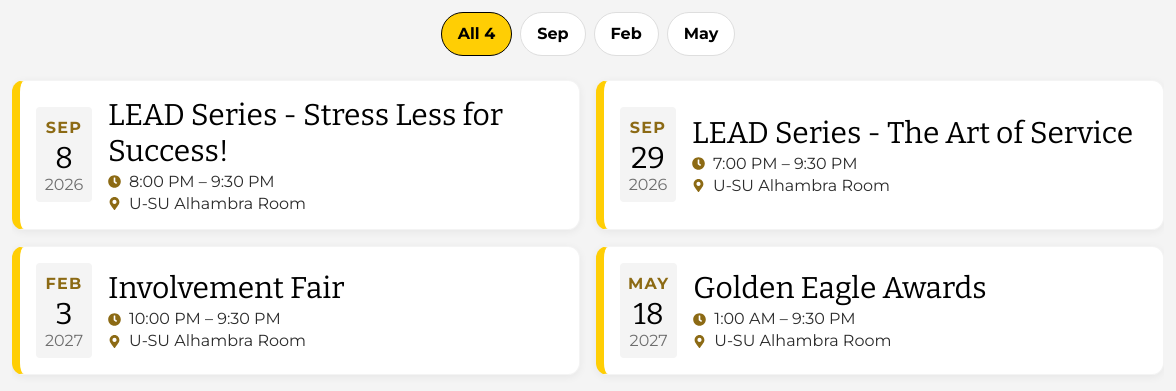
Test case: ImagelessEventsGrid › with a month filter › shows only the chosen month once a pill is pressed
The width and height of the screenshot is (1176, 391).
Step 1. Click the button with aria-label "September 2026" → (553, 34), box [520,12,586,56]
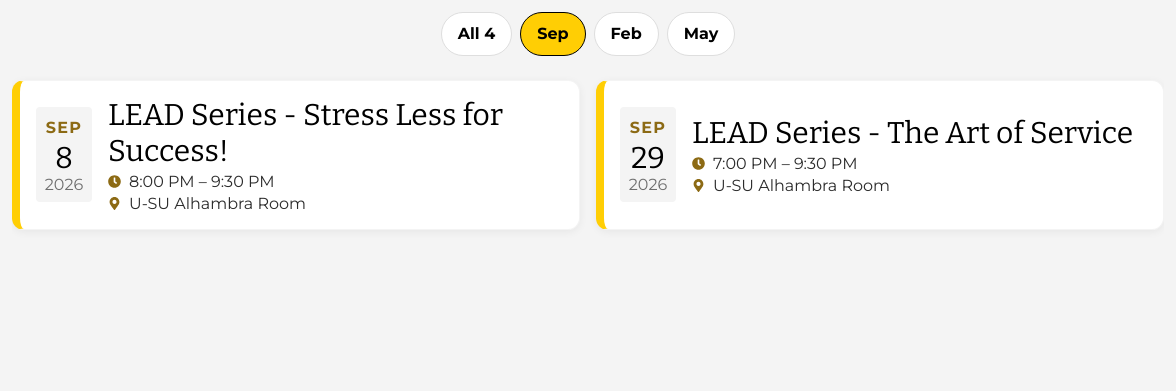
Check: the number of buttons "LEAD Series" is 2, box [12,80,580,230]; [596,80,1164,230]
Check: the button "Involvement Fair" is gone
